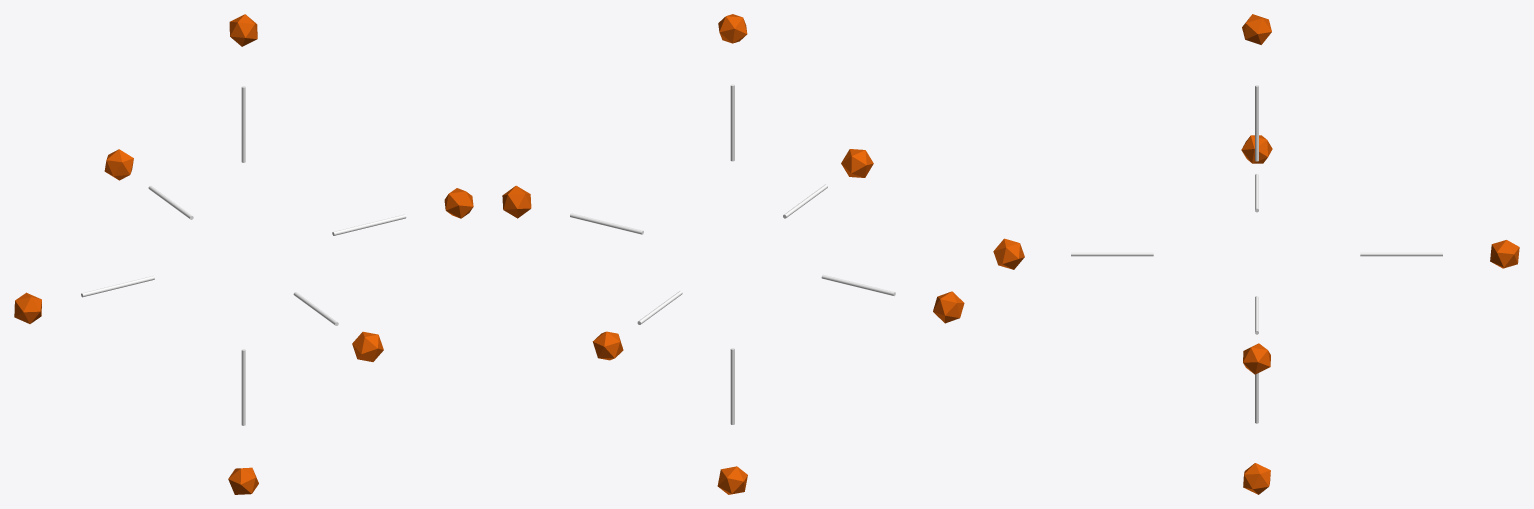
File: OrbsBigger.fbx
The picture shows the model from 3 angles, left to right: view 1: azimuth 30°, elevation 25°; view 2: azimuth 150°, elevation 25°; view 3: azimuth 270°, elevation 25°; orthographic projection.
Visible parts, largest first — view 1: Icosphere.006; view 2: Icosphere.006; view 3: Icosphere.006.
Boxes of the visible parts, bbox=[...] form: Icosphere.006: bbox=[14, 14, 473, 494]; Icosphere.006: bbox=[502, 14, 964, 494]; Icosphere.006: bbox=[993, 14, 1519, 494].
Bounding box in the file's own units: 637 × 637 × 637.
